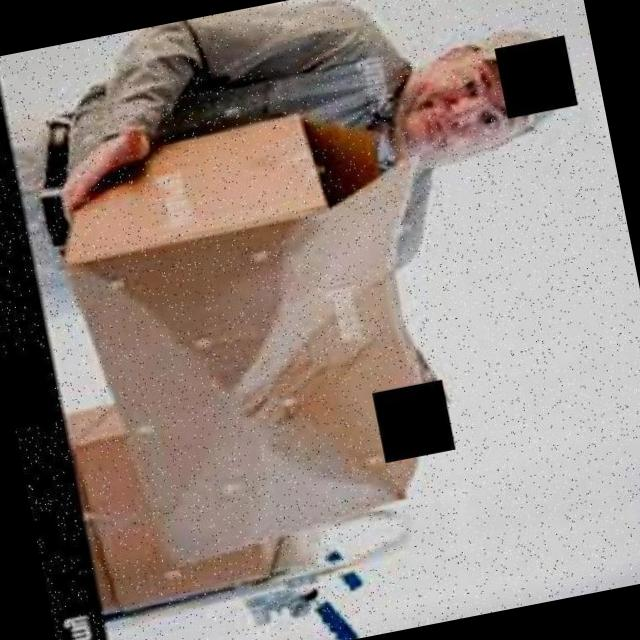box: (31, 88, 466, 577)
